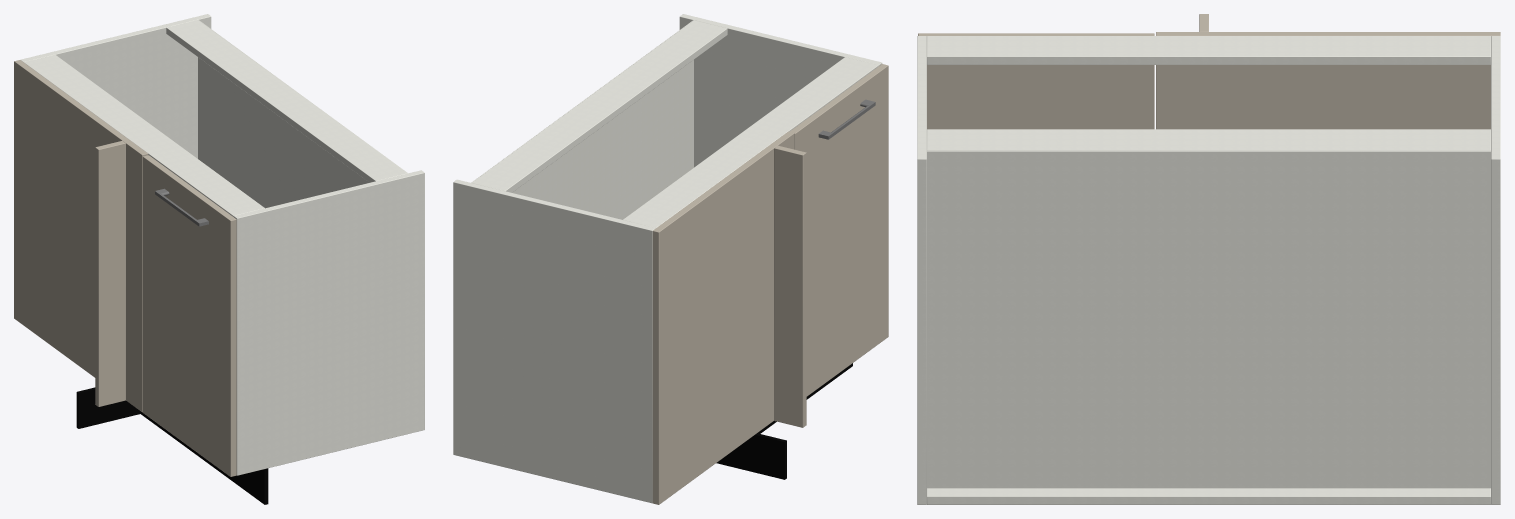
The picture shows the model from 3 angles, left to right: view 1: azimuth 30°, elevation 25°; view 2: azimuth 150°, elevation 25°; view 3: azimuth 270°, elevation 25°; orthographic projection. The views are drawn at different scales.
Visible parts, largest first — view 1: u2; view 2: u2; view 3: u2.
Part boxes in pixels (left/top/right/bottom): u2: left=14, top=14, right=424, bottom=504; u2: left=453, top=14, right=888, bottom=504; u2: left=917, top=14, right=1500, bottom=504.
Size of the model in its own units: 0.65 by 0.82 by 1.1.
4 materials, 2 textured.
